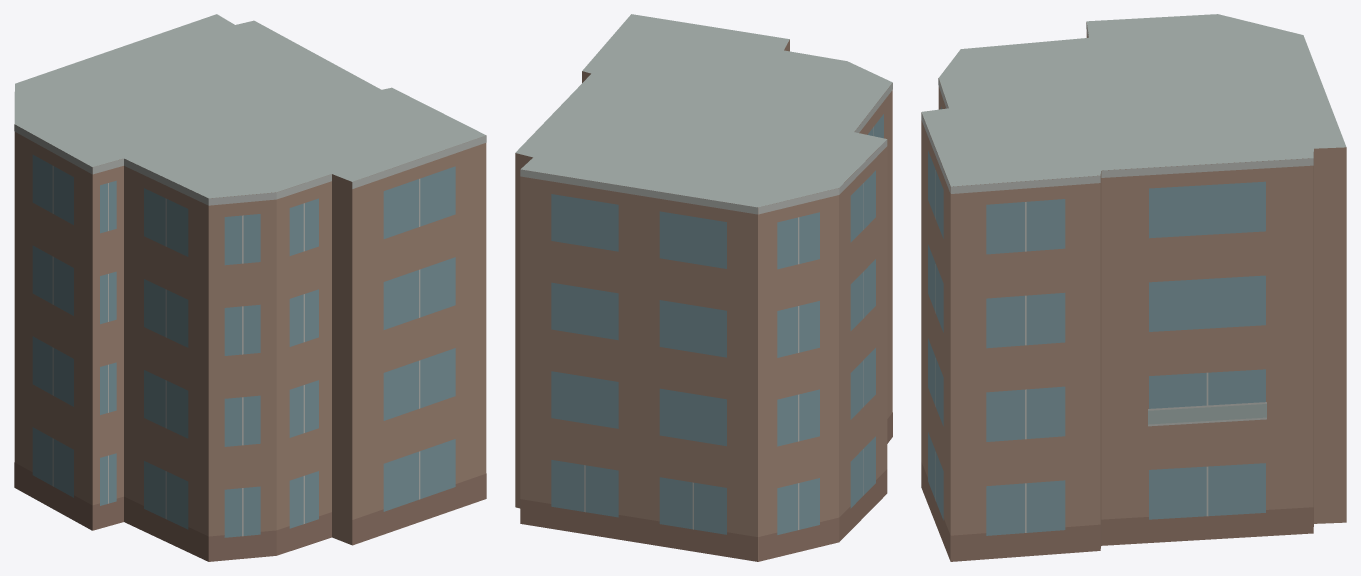
File: survey-upis-32655983.glb
3 renders of one model, left to right at view 1: azimuth 30°, elevation 25°; view 2: azimuth 150°, elevation 25°; view 3: azimuth 270°, elevation 25°, orthographic. The views are drawn at different scales.
Visible parts, largest first — view 1: survey-upis-32655983.tmp; view 2: survey-upis-32655983.tmp; view 3: survey-upis-32655983.tmp.
Part boxes in pixels (box(x1,y1,x2,y2)): survey-upis-32655983.tmp: box(14, 14, 486, 561); survey-upis-32655983.tmp: box(515, 14, 892, 561); survey-upis-32655983.tmp: box(921, 14, 1346, 561).
Size of the model in its own units: 12.04 by 12.2 by 12.54.
